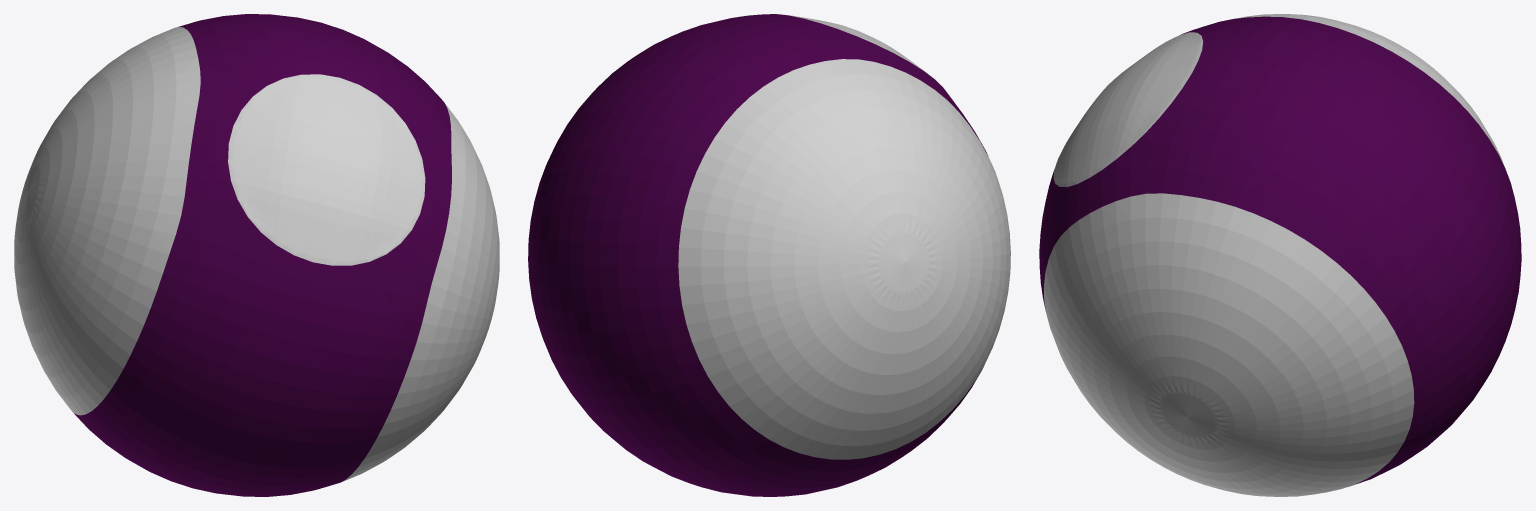
The model's file is 12_ball.obj.
The picture shows the model from 3 angles, left to right: view 1: azimuth 30°, elevation 25°; view 2: azimuth 150°, elevation 25°; view 3: azimuth 270°, elevation 25°; orthographic projection.
Parts seen in each view (by area): view 1: Stripe.004; view 2: Stripe.004; view 3: Stripe.004.
Boxes of the visible parts, bbox=[...] form: Stripe.004: bbox=[14, 14, 499, 496]; Stripe.004: bbox=[528, 14, 1010, 496]; Stripe.004: bbox=[1039, 14, 1521, 496].
Bounding box in the file's own units: 0.0789 × 0.0785 × 0.0786.
